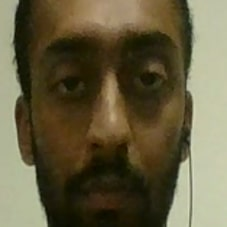awake: (39, 18, 181, 218)
